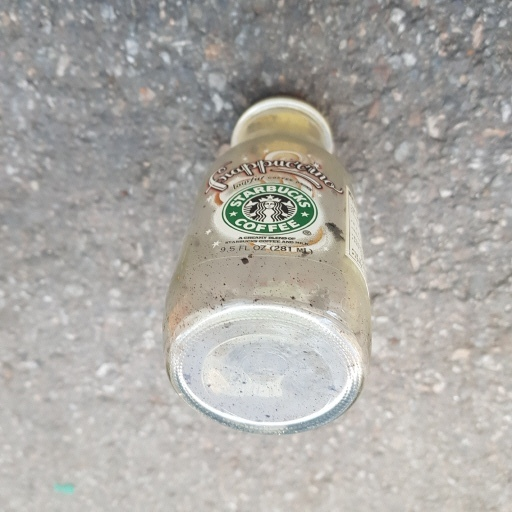Glass_4: (158, 93, 373, 434)
